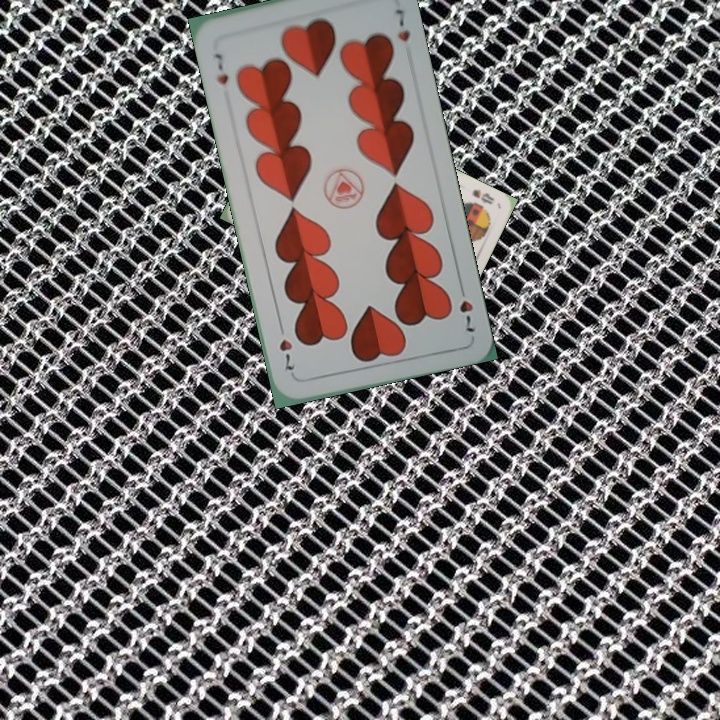H7: (455, 279, 478, 335), (210, 49, 231, 87)
S8: (468, 185, 497, 207)
